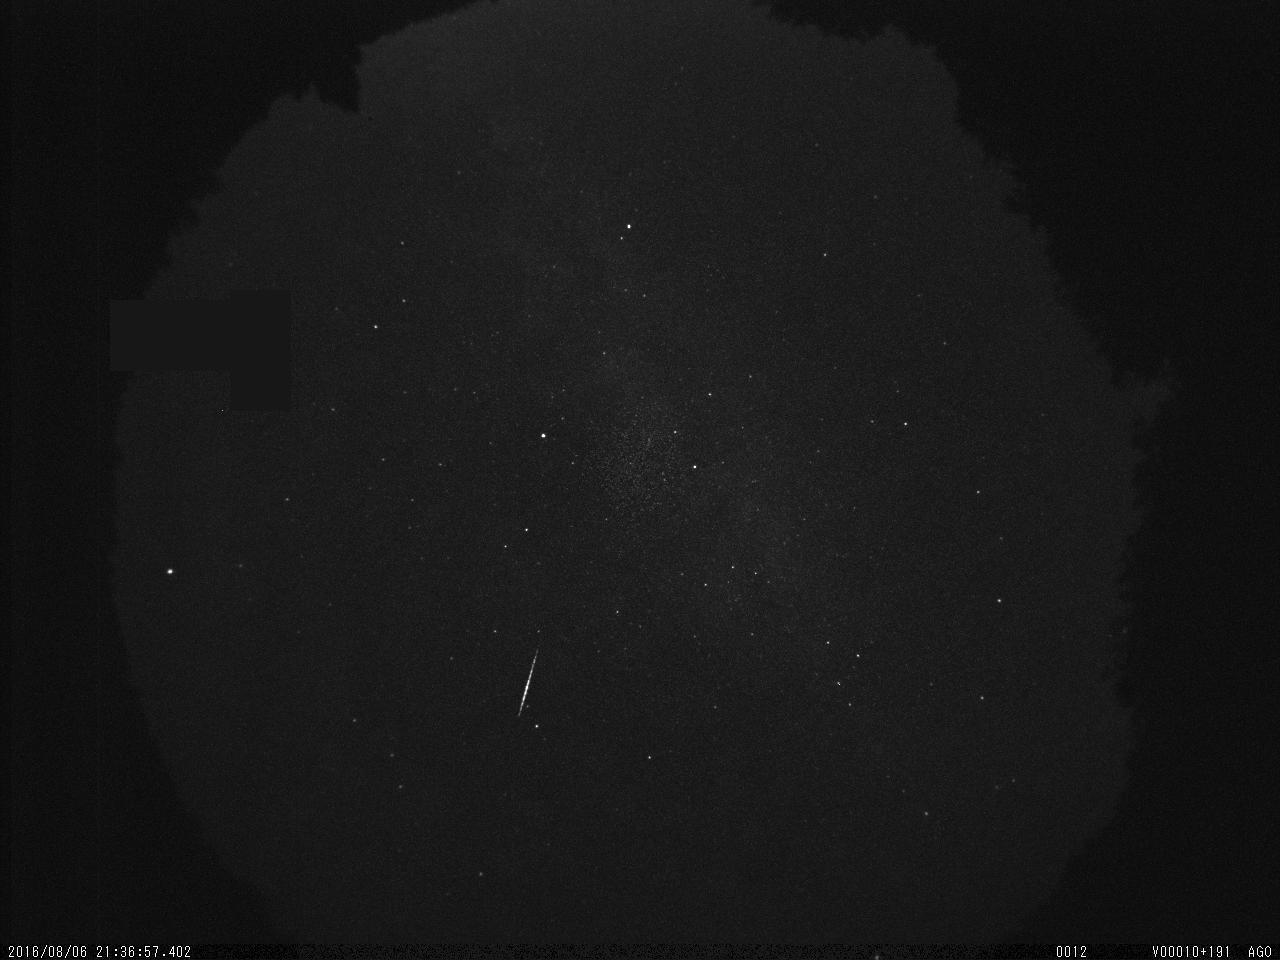Meteor: (510, 639, 544, 732)
